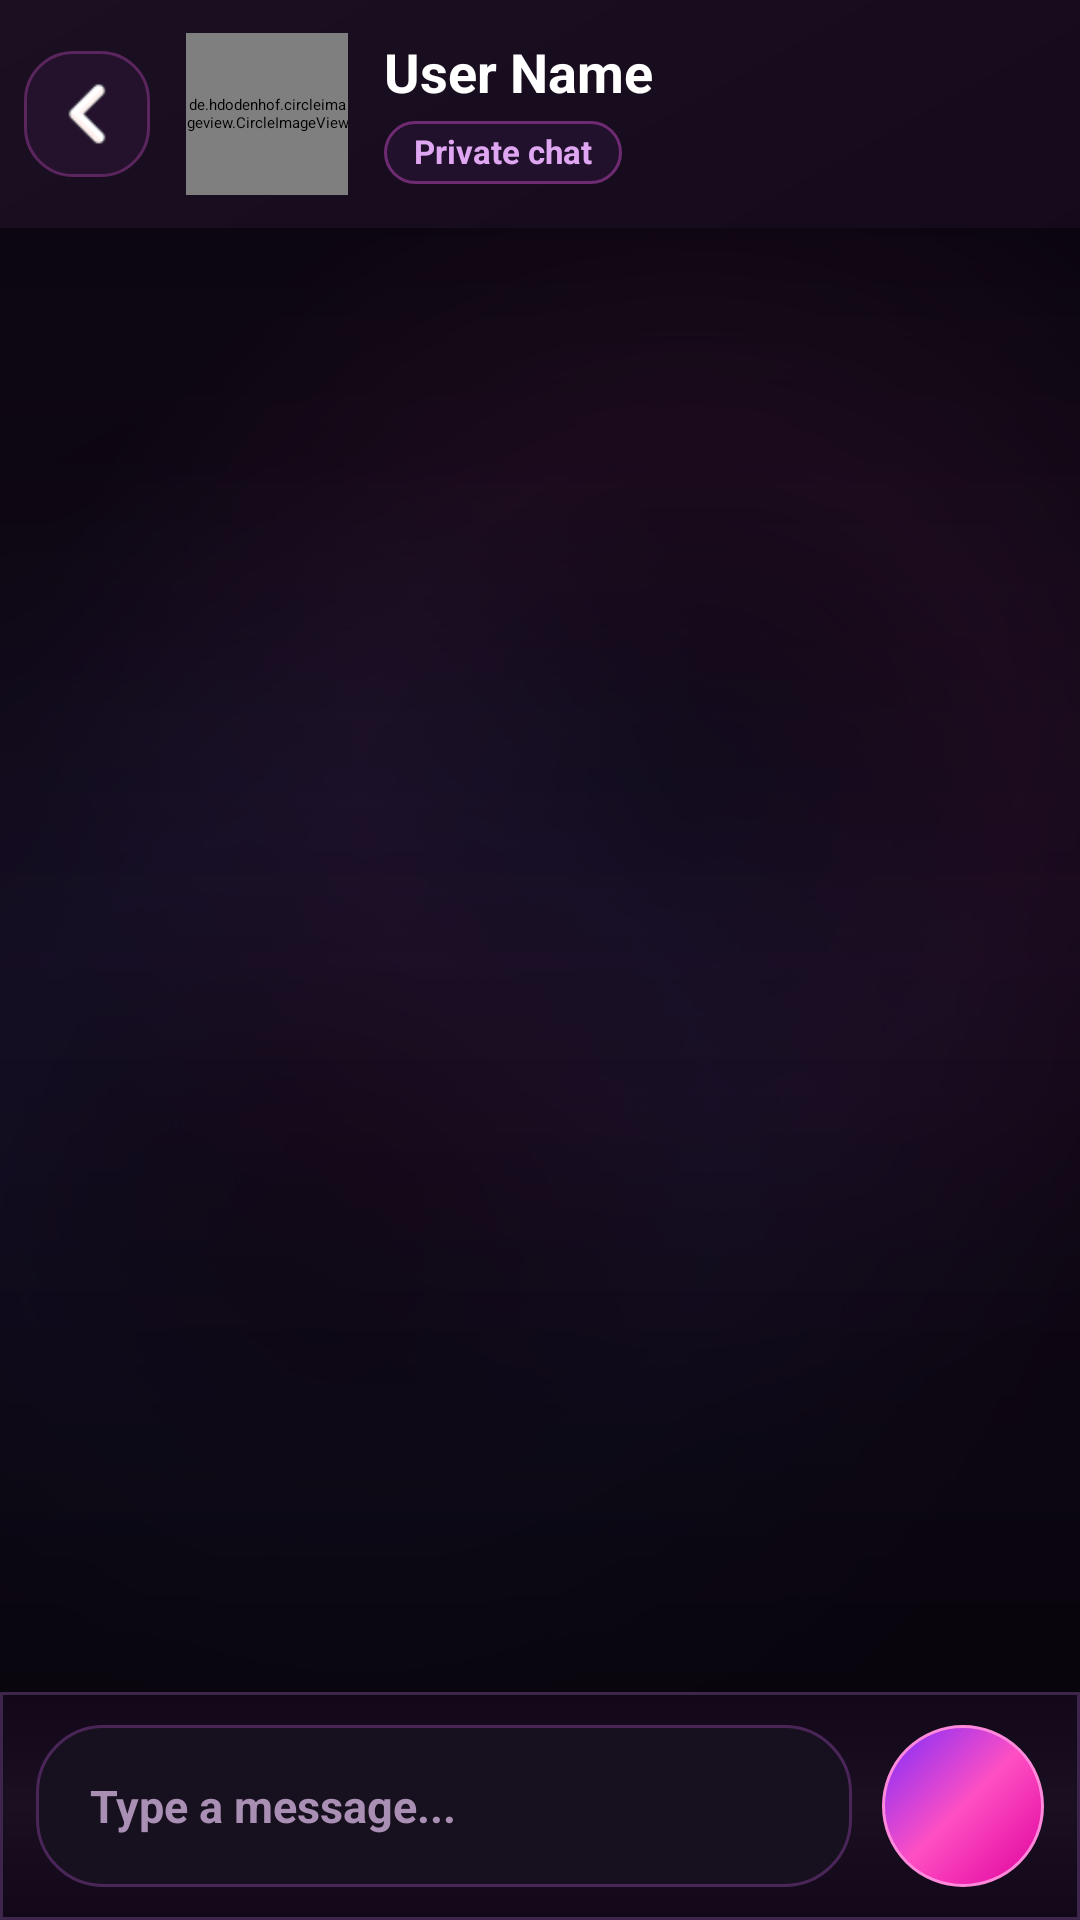

Named icons in this screenshot (1080 × 1920) and their centers, [x,y]:
Back: [87,114]
